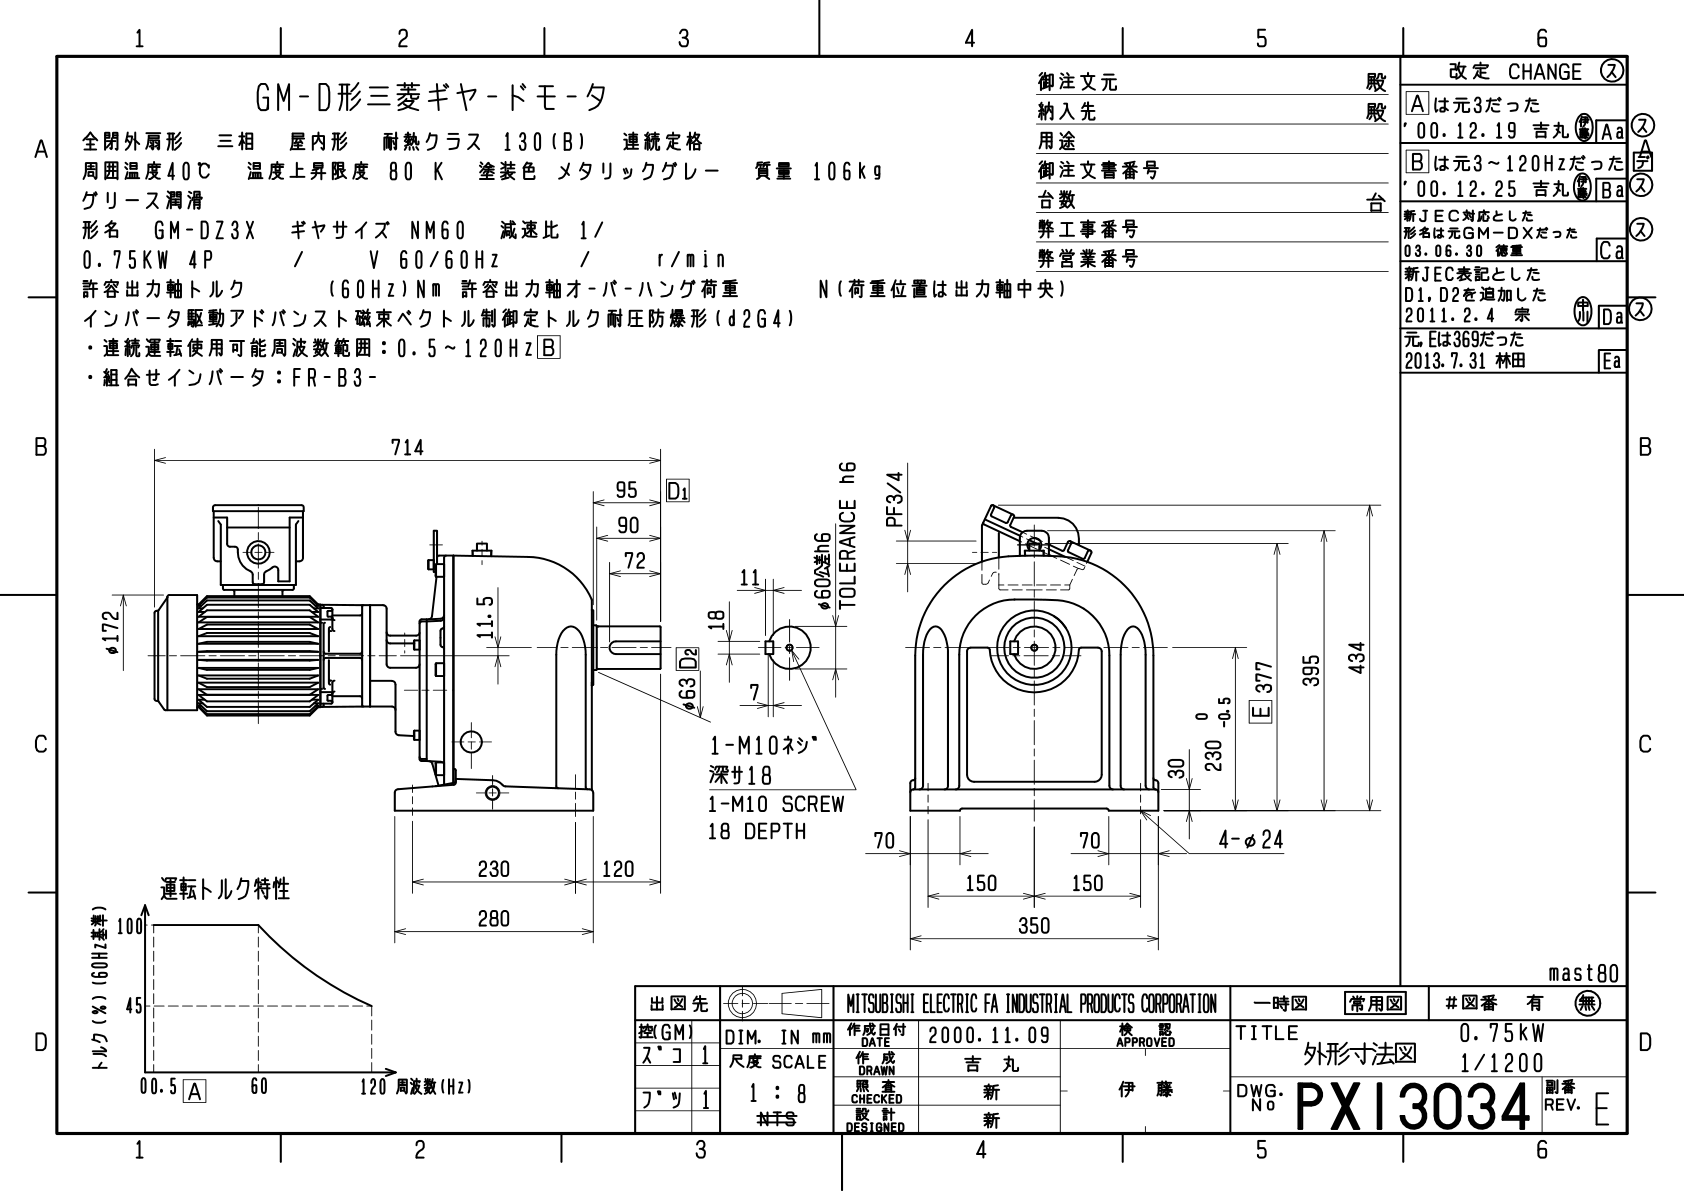GM_D_制御屋内_三相_脚: (71, 420, 1386, 971)
